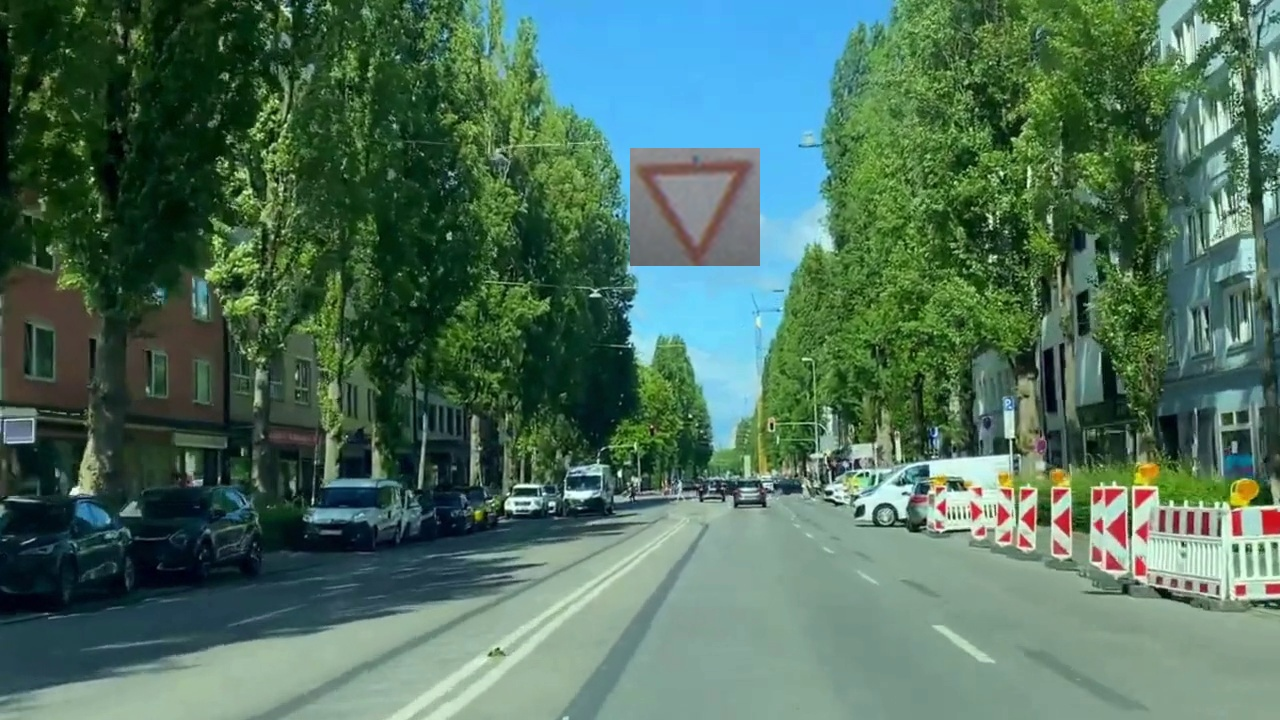Yield: (630, 148, 760, 266)
